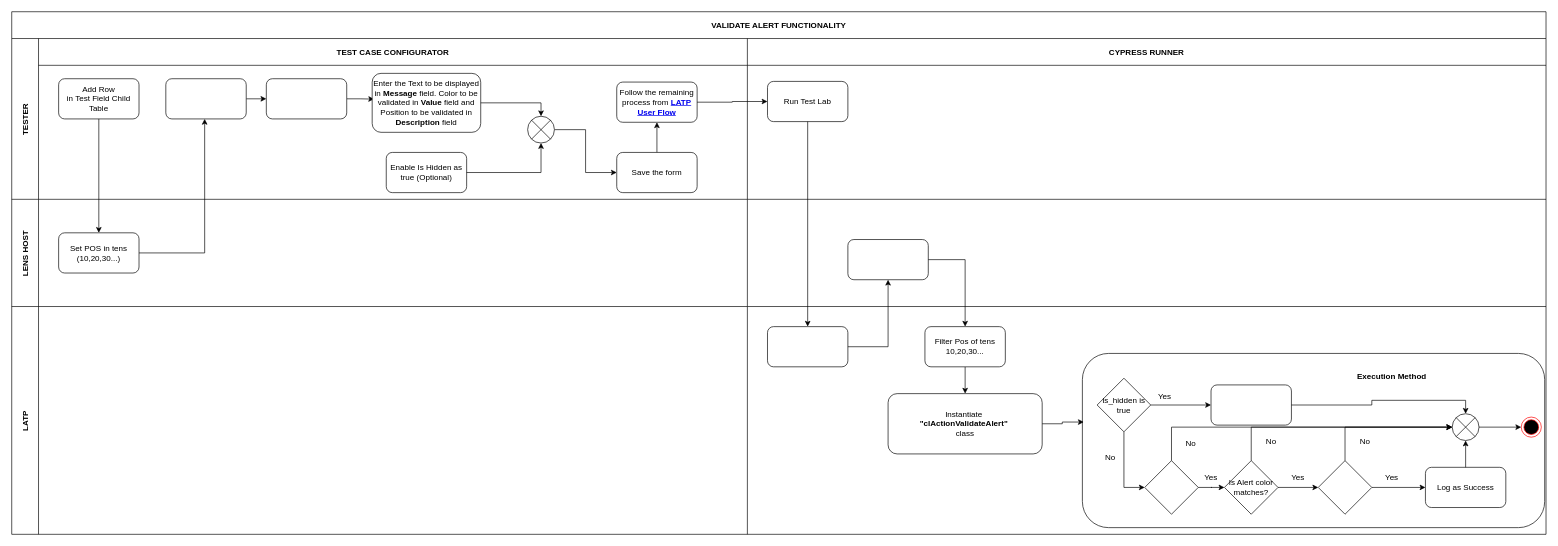
This 1558x546 diagram has some shape labels left out. Here are the shapes that lost their labels. From the top down, the box of each, then its label:
(165, 78, 246, 119): Select "Validate Alert " in Action field
(266, 78, 347, 119): Click the Edit Icon
(847, 239, 928, 280): Send Response back to LATP Client
(767, 326, 848, 367): Send Request for test script
(1210, 384, 1291, 425): Alert should not exist
(1144, 460, 1198, 514): Is Alert Text matches?
(1318, 460, 1372, 514): Is Alert Position matches?
